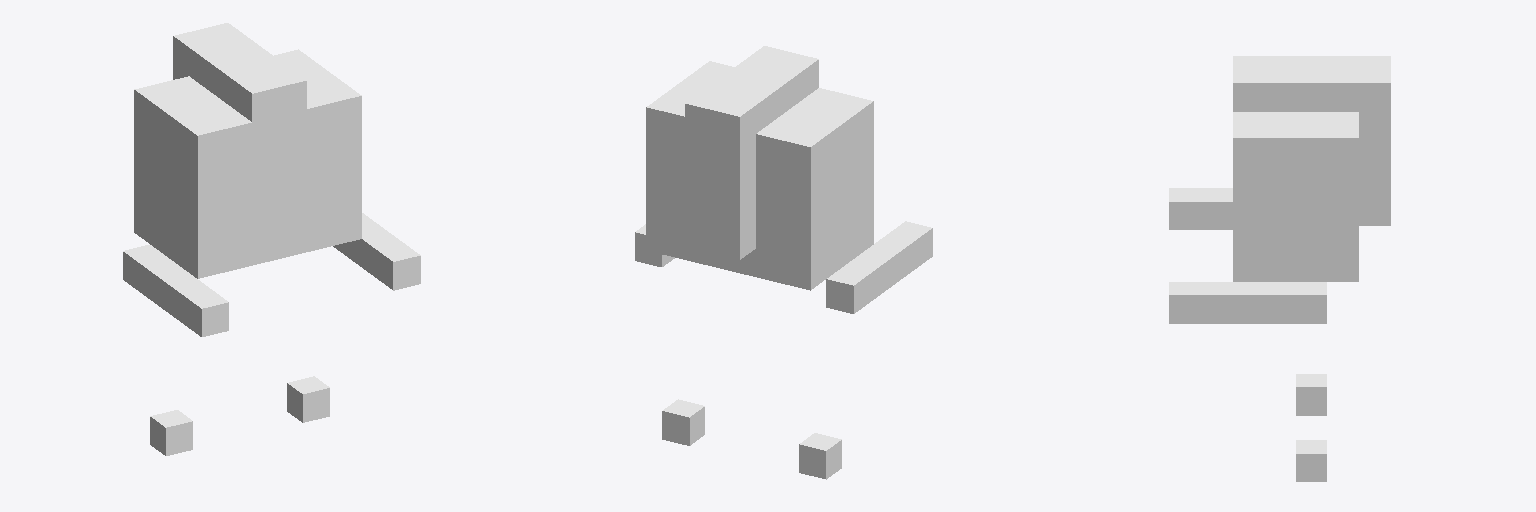
The model's file is ModSmith-4.obj.
3 renders of one model, left to right at view 1: azimuth 30°, elevation 25°; view 2: azimuth 150°, elevation 25°; view 3: azimuth 270°, elevation 25°, orthographic.
Parts seen in each view (by area): view 1: object 1; view 2: object 1; view 3: object 1.
Boxes of the visible parts, <box> form: object 1: <box>123,23,420,455</box>; object 1: <box>635,46,932,479</box>; object 1: <box>1169,56,1390,481</box>.
Bounding box in the file's own units: 0.8 × 1.3 × 0.7.